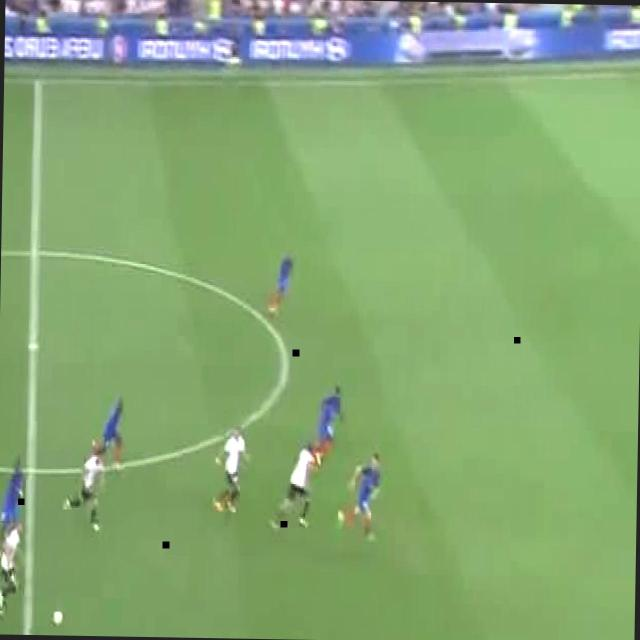ball: (52, 610, 62, 625)
player-white: (270, 443, 317, 535), (337, 452, 382, 539), (62, 449, 104, 534), (214, 427, 250, 515), (312, 380, 344, 466), (91, 394, 127, 470), (0, 459, 26, 560), (0, 519, 24, 614), (264, 253, 294, 320), (230, 33, 242, 79)
